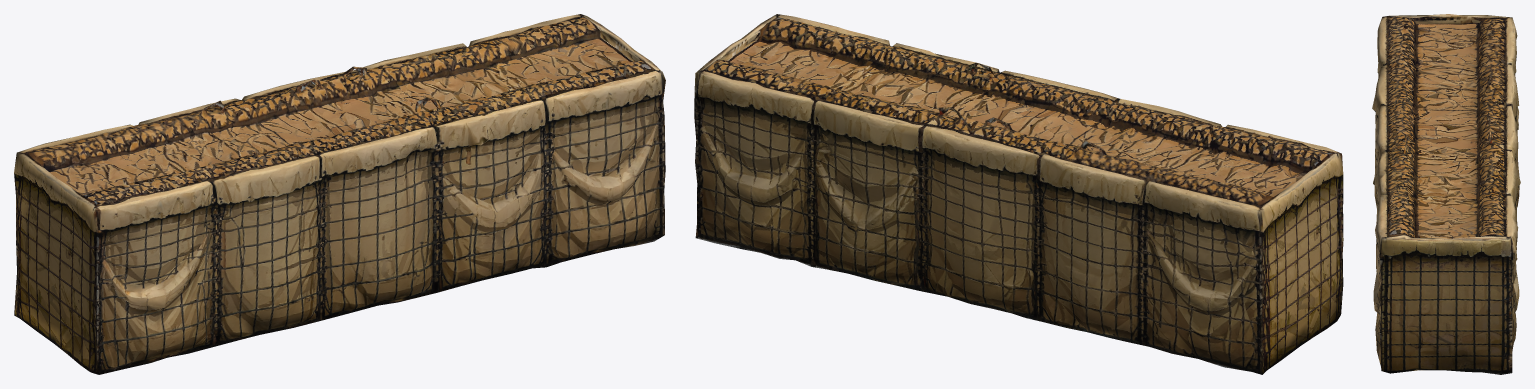
The model's file is EX_Mil_Barrier.fbx.
3 renders of one model, left to right at view 1: azimuth 30°, elevation 25°; view 2: azimuth 150°, elevation 25°; view 3: azimuth 270°, elevation 25°, orthographic. The views are drawn at different scales.
Parts seen in each view (by area): view 1: texture_mapping; view 2: texture_mapping; view 3: texture_mapping.
Part boxes in pixels (<box>): texture_mapping: <box>14,14,665,374</box>; texture_mapping: <box>694,14,1343,374</box>; texture_mapping: <box>1372,14,1520,374</box>.
Bounding box in the file's own units: 0.9959 × 0.2758 × 0.3029.
1 material, 1 textured.
